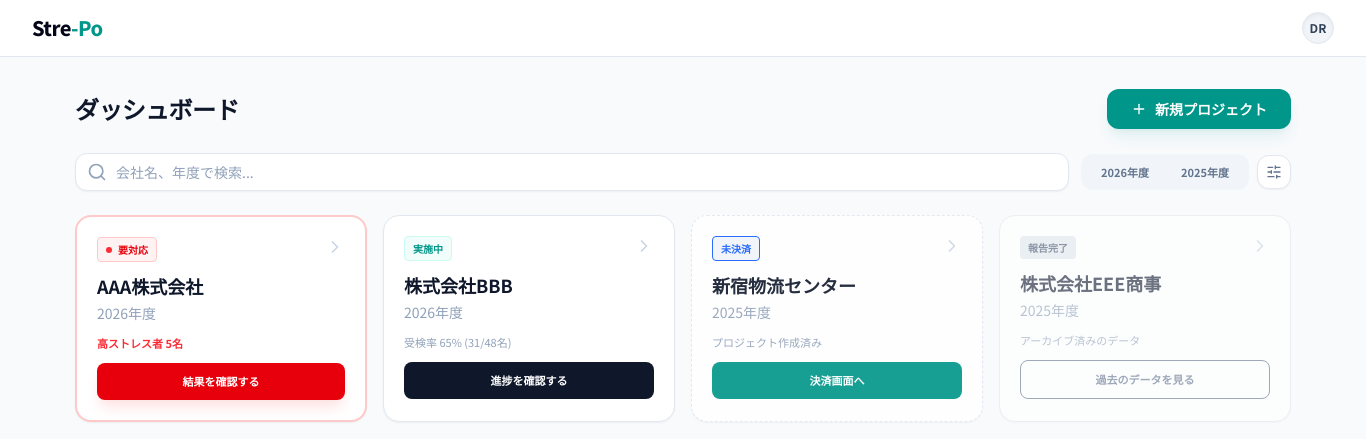
it: DoctorDashboard - 年度フィルタリング › アクティブな年度ボタンを再クリックするとフィルターが解除される
Click the button "2026年度": (1125, 172) [1085, 158, 1165, 186]
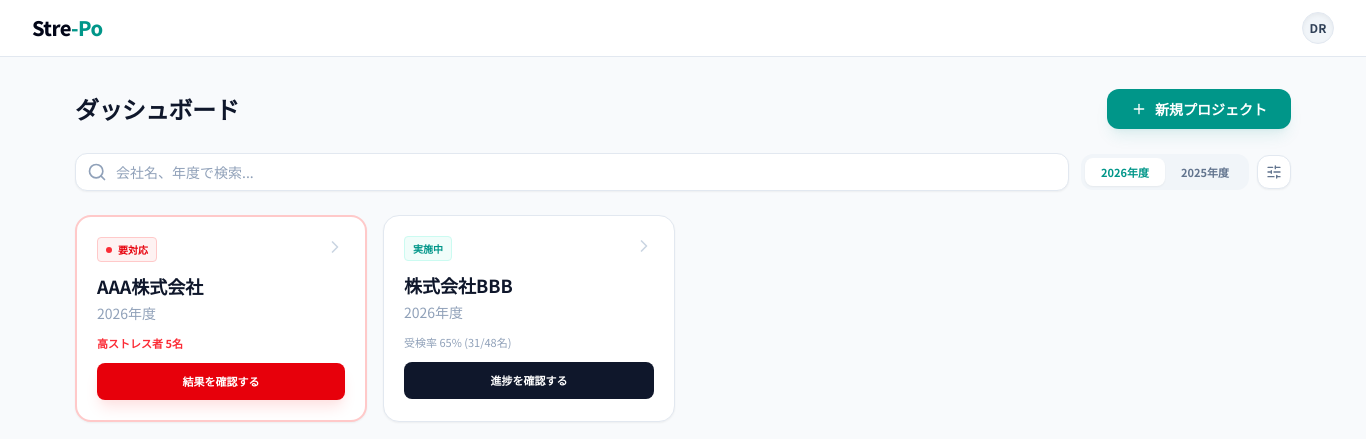
Click the button "2026年度": (1125, 172) [1085, 158, 1165, 186]
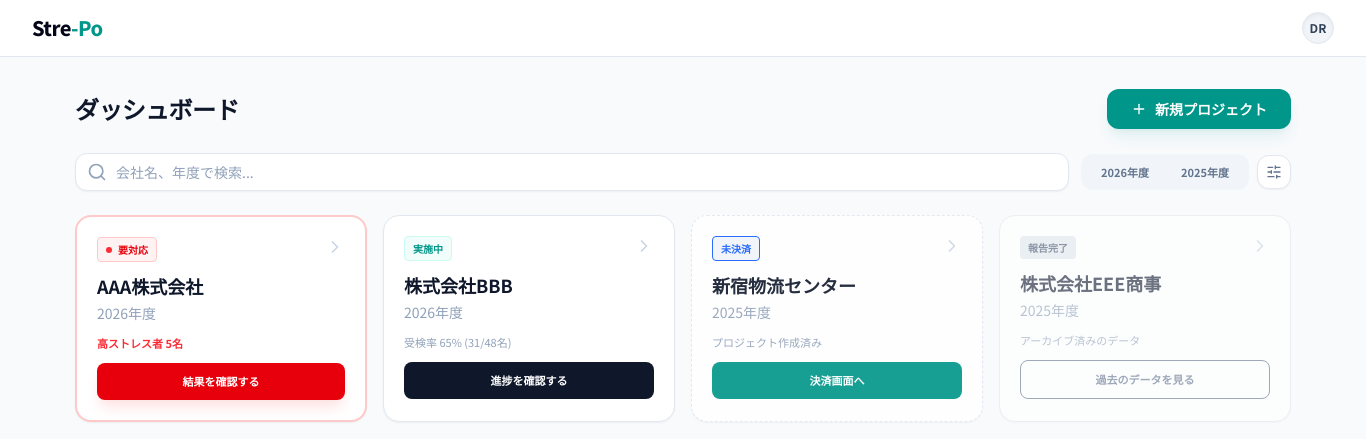
Result: the text "新宿物流センター" is shown at [712, 272, 856, 298]
